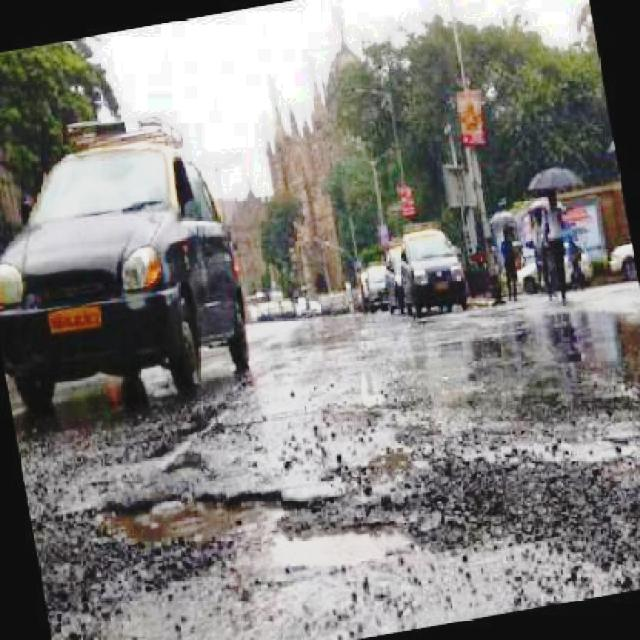pothole: (76, 477, 330, 552), (222, 509, 449, 582), (149, 400, 234, 465)
